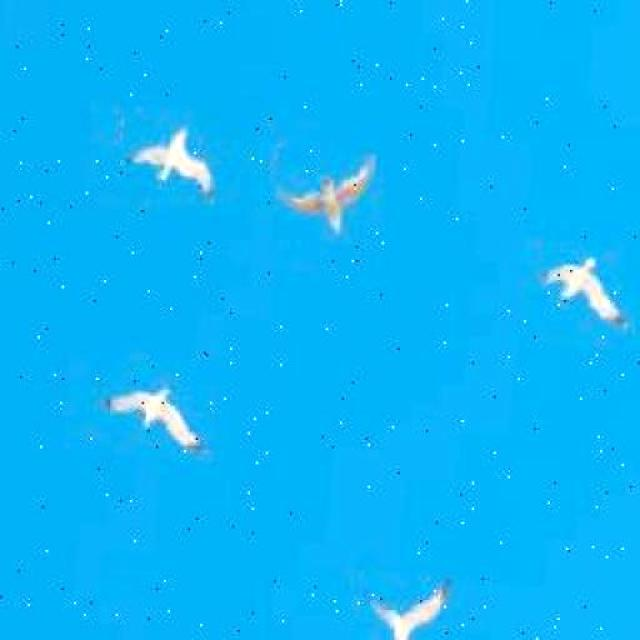airplane: (269, 148, 375, 248), (116, 118, 218, 205), (98, 378, 211, 456), (534, 251, 630, 339), (356, 565, 452, 640)
